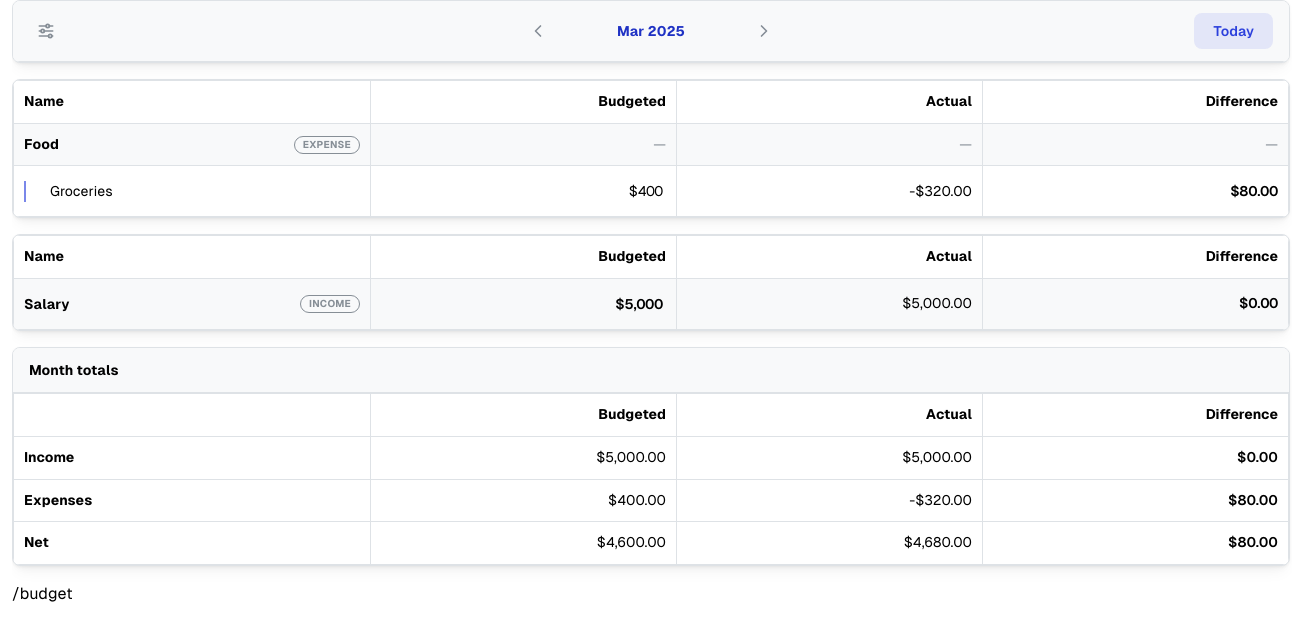
Test: BudgetMonthView › opens a category's transactions for the selected month
Click the button with aria-label "Open Groceries transactions" at (81, 191), box [50,180,113,202]
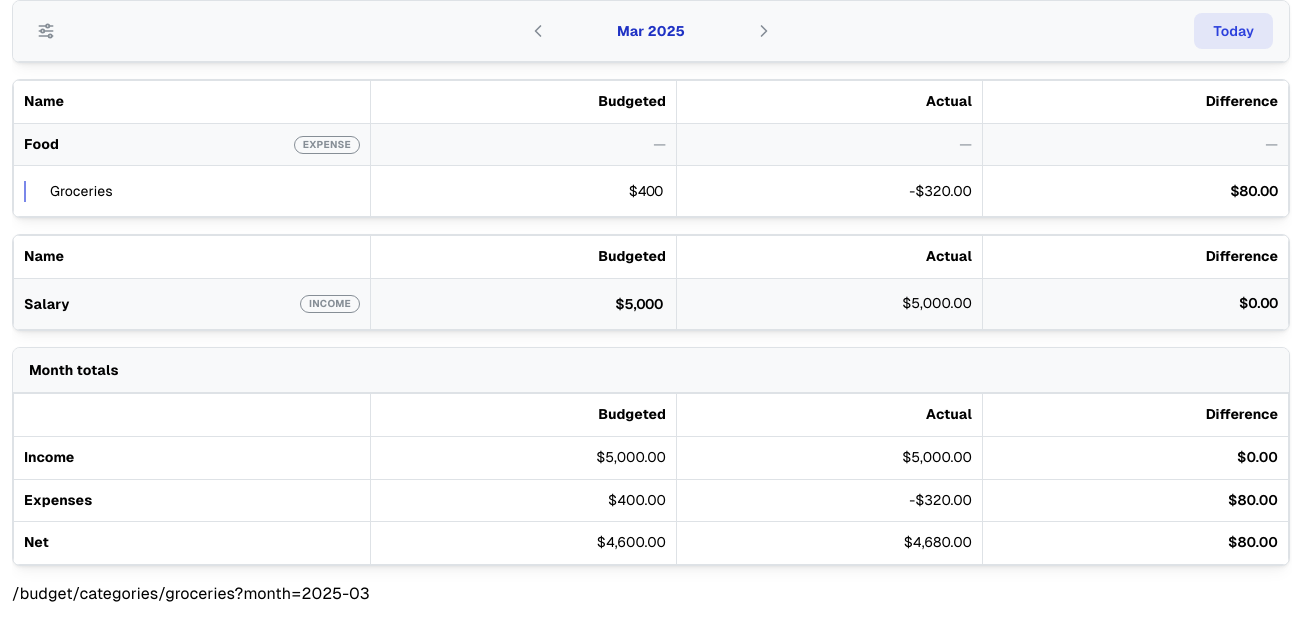
Result: the text with test id "location" reads "/budget/categories/groceries?month=2025-03" at [12,584,370,603]
